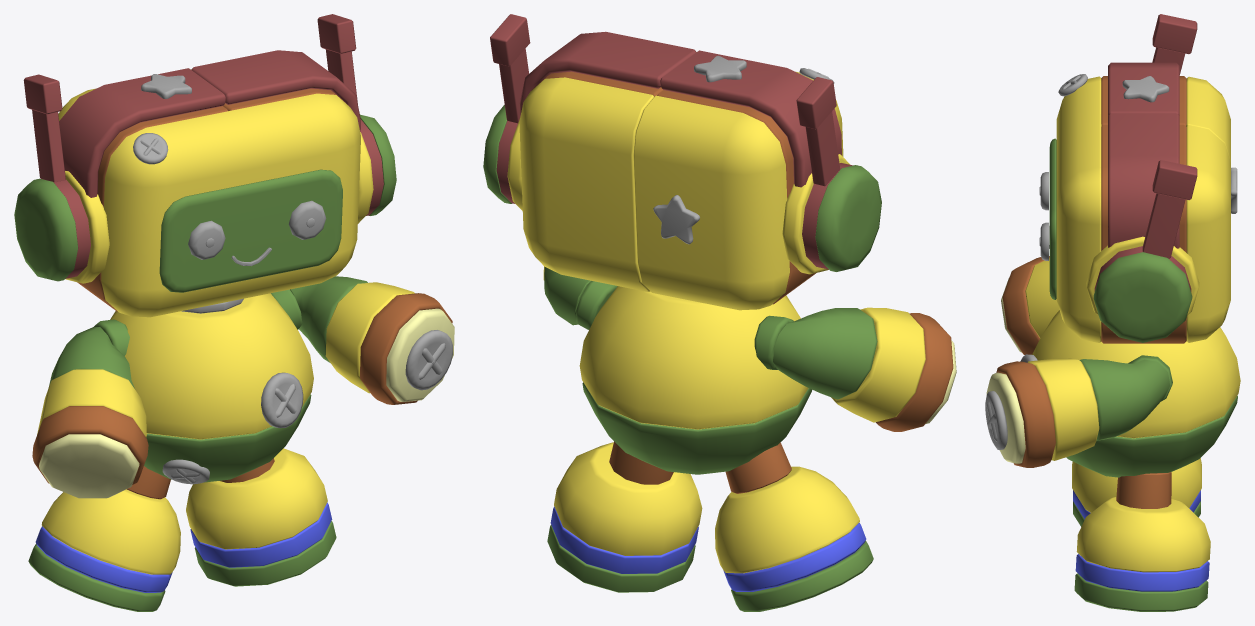
File: AstroRobot.fbx
The picture shows the model from 3 angles, left to right: view 1: azimuth 30°, elevation 25°; view 2: azimuth 150°, elevation 25°; view 3: azimuth 270°, elevation 25°; orthographic projection. The views are drawn at different scales.
Visible parts, largest first — view 1: S_robot_19, S_robot_4, S_robot_20, M_robot_11, M_robot_12, S_robot_22, S_robot_21, S_robot_1, S_robot_24, S_robot_5, M_robot_9, M_robot_10 (+30 smaller); view 2: S_robot_29, S_robot_4, S_robot_15, M_robot_11, M_robot_12, S_robot_5, S_robot_3, S_robot_22, M_robot_10, S_robot_21, S_robot_24, S_robot_2 (+22 smaller); view 3: S_robot_19, S_robot_4, S_robot_15, M_robot_11, S_robot_21, S_robot_16, S_robot_5, S_robot_14, M_robot_9, S_robot_13, S_robot_22, S_robot_11 (+19 smaller).
Part boxes in pixels (x1=…): S_robot_19: x1=101, y1=93, x2=360, y2=317; S_robot_4: x1=110, y1=293, x2=313, y2=439; S_robot_20: x1=159, y1=169, x2=342, y2=292; M_robot_11: x1=186, y1=448, x2=327, y2=549; M_robot_12: x1=41, y1=489, x2=180, y2=574; S_robot_22: x1=59, y1=68, x2=225, y2=197; S_robot_21: x1=191, y1=50, x2=360, y2=131; S_robot_1: x1=39, y1=434, x2=139, y2=498; S_robot_24: x1=14, y1=178, x2=78, y2=281; S_robot_5: x1=144, y1=394, x2=311, y2=482; M_robot_9: x1=325, y1=282, x2=414, y2=393; M_robot_10: x1=37, y1=369, x2=146, y2=437; S_robot_29: x1=633, y1=95, x2=789, y2=310; S_robot_4: x1=579, y1=286, x2=808, y2=429; S_robot_15: x1=519, y1=77, x2=654, y2=291; M_robot_11: x1=554, y1=442, x2=702, y2=555; M_robot_12: x1=715, y1=466, x2=859, y2=573; S_robot_5: x1=582, y1=382, x2=811, y2=474; S_robot_3: x1=773, y1=308, x2=877, y2=399; S_robot_22: x1=660, y1=50, x2=841, y2=187; M_robot_10: x1=831, y1=307, x2=925, y2=422; S_robot_21: x1=519, y1=31, x2=696, y2=116; S_robot_24: x1=815, y1=165, x2=881, y2=271; S_robot_2: x1=876, y1=313, x2=953, y2=431; S_robot_19: x1=1056, y1=76, x2=1101, y2=342; S_robot_4: x1=1032, y1=310, x2=1240, y2=438; S_robot_15: x1=1186, y1=125, x2=1230, y2=342; M_robot_11: x1=1076, y1=497, x2=1210, y2=572; S_robot_21: x1=1108, y1=113, x2=1179, y2=248; S_robot_16: x1=1093, y1=252, x2=1192, y2=342; S_robot_5: x1=1066, y1=395, x2=1237, y2=477; S_robot_14: x1=1079, y1=359, x2=1170, y2=440; M_robot_9: x1=1028, y1=358, x2=1099, y2=460; S_robot_13: x1=996, y1=361, x2=1055, y2=467; S_robot_22: x1=1108, y1=62, x2=1179, y2=115; S_robot_11: x1=1074, y1=573, x2=1208, y2=611.
Size of the model in its own units: 560 by 709 by 331.
